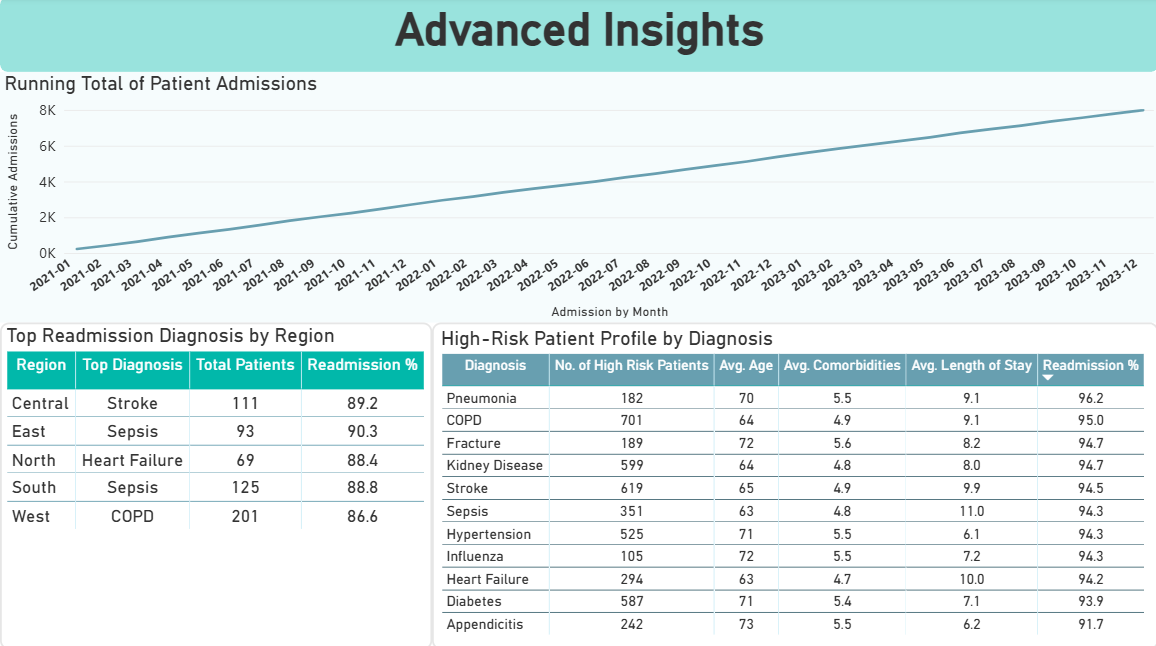

This screenshot's page, from the dashboard's own definition file:
{"tool":"powerbi","page":{"name":"Advanced Insights","canvas":[1280,720],"ordinal":3},"visuals":[{"type":"lineChart","title":"Running Total of Patient Admissions","fields":{"Category":["ascend_quick_project hospital_data.Admission Month"],"Y":["ascend_quick_project hospital_data.Running Total Admissions"]},"box":[0,82.8,1280.5,276.6],"z":0},{"type":"tableEx","title":"High-Risk Patient Profile by Diagnosis","fields":{"Values":["High Risk Patient Profile.primary_diagnosis","High Risk Patient Profile.high_risk_patients","High Risk Patient Profile.avg_age","High Risk Patient Profile.avg_comorbidities","High Risk Patient Profile.avg_los","High Risk Patient Profile.readmission_rate"]},"box":[477.1,359.5,803.4,361.1],"z":1000},{"type":"tableEx","title":"Top Readmission Diagnosis by Region","fields":{"Values":["ranking diagnosis by readmission risk per region.region","ranking diagnosis by readmission risk per region.primary_diagnosis","ranking diagnosis by readmission risk per region.total_patients","ranking diagnosis by readmission risk per region.readmission_rate"]},"box":[0,359.5,477.1,361.1],"z":2000},{"type":"shape","box":[0,0,1280.5,82.8],"z":3000},{"type":"textbox","box":[333,0,614.6,82.8],"z":4000}]}

Visuals, with their boxes in screenshot pixels (x1, y1, x2, y2), scaled from the page's 1280x720 canvas onto the 1156x646 screenshot:
"Running Total of Patient Admissions" lineChart: pyautogui.locateOnScreen(0, 74, 1155, 322)
"High-Risk Patient Profile by Diagnosis" tableEx: pyautogui.locateOnScreen(431, 323, 1155, 645)
"Top Readmission Diagnosis by Region" tableEx: pyautogui.locateOnScreen(0, 323, 431, 645)
shape: pyautogui.locateOnScreen(0, 0, 1155, 74)
textbox: pyautogui.locateOnScreen(301, 0, 856, 74)
